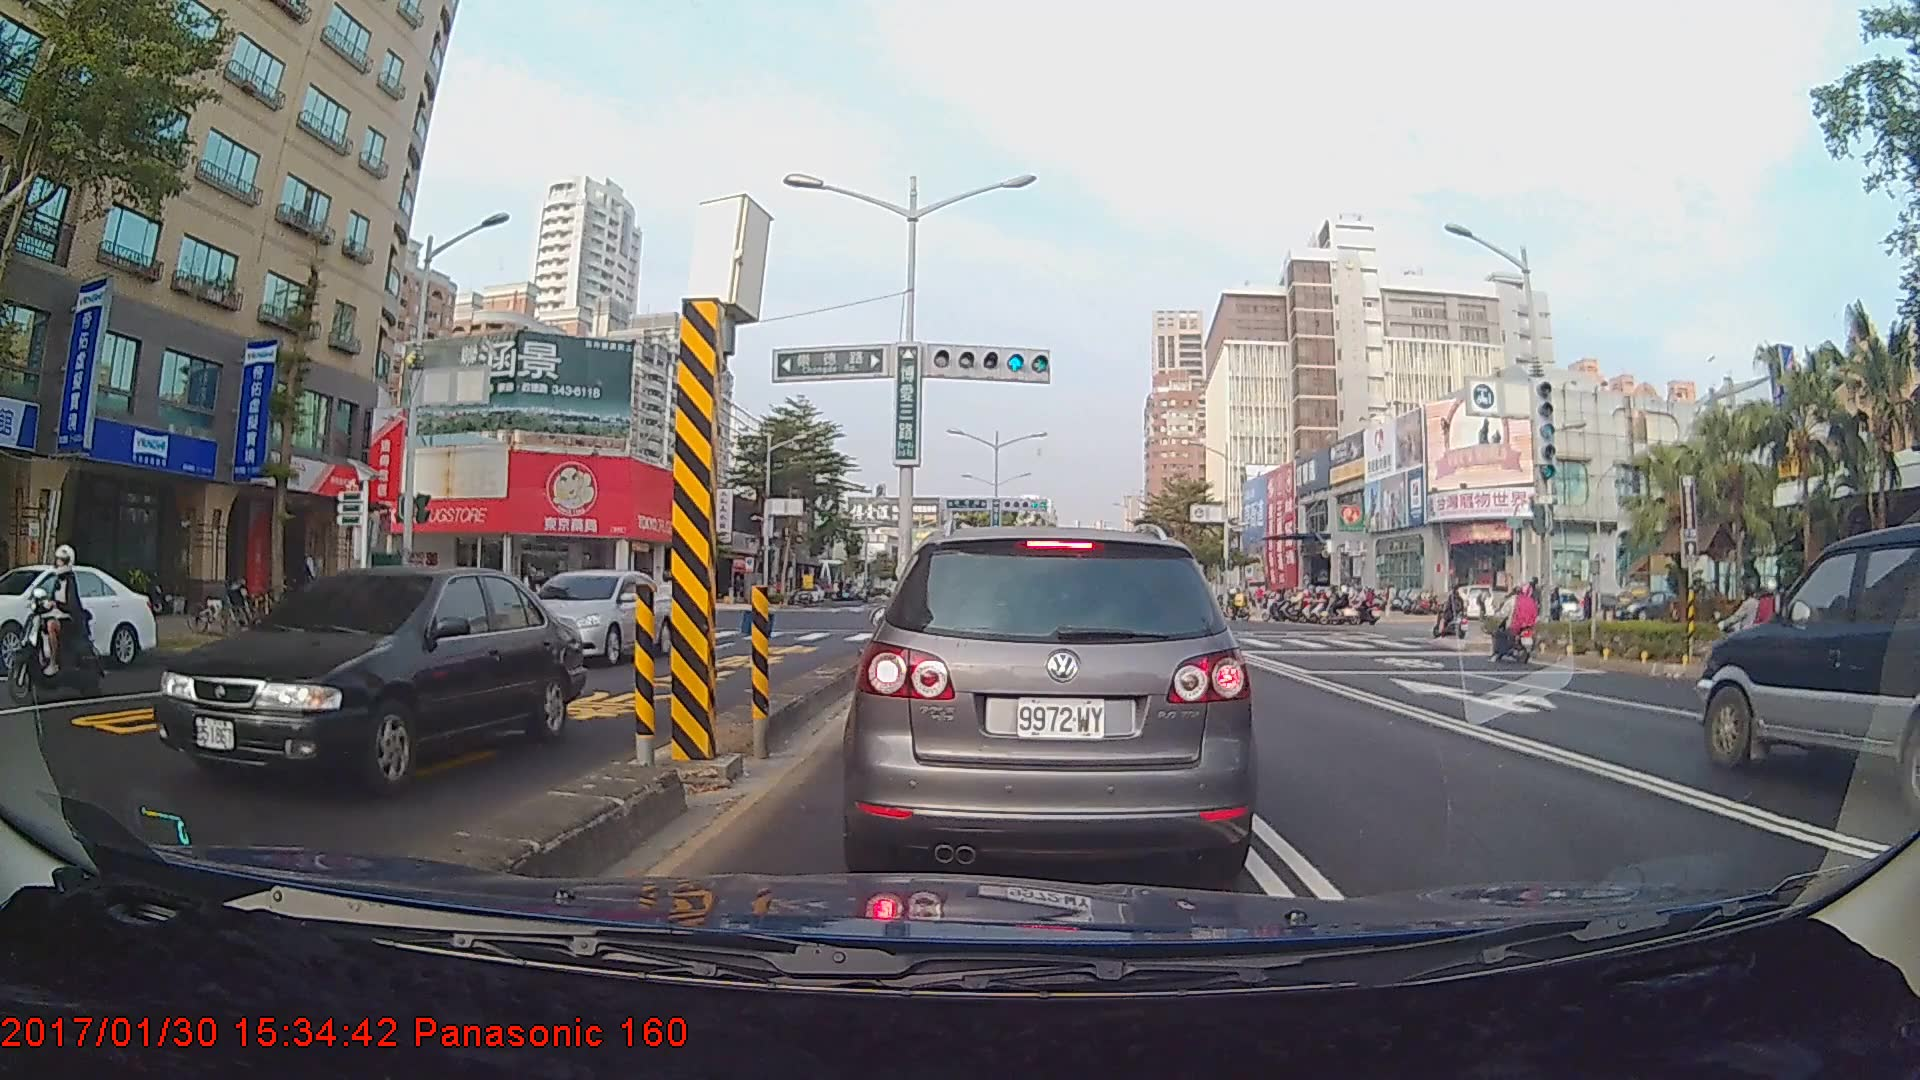rider: (1, 541, 99, 714), (1703, 575, 1793, 715), (1485, 582, 1548, 668), (1436, 582, 1473, 646)
vehicle: (851, 522, 1249, 884), (151, 564, 586, 795), (1694, 520, 1920, 798), (0, 561, 157, 671), (512, 568, 679, 667)
